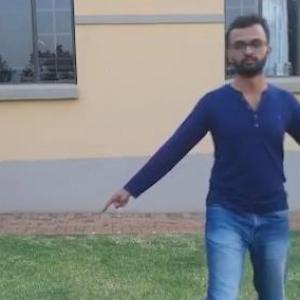land: (113, 39, 299, 299)
